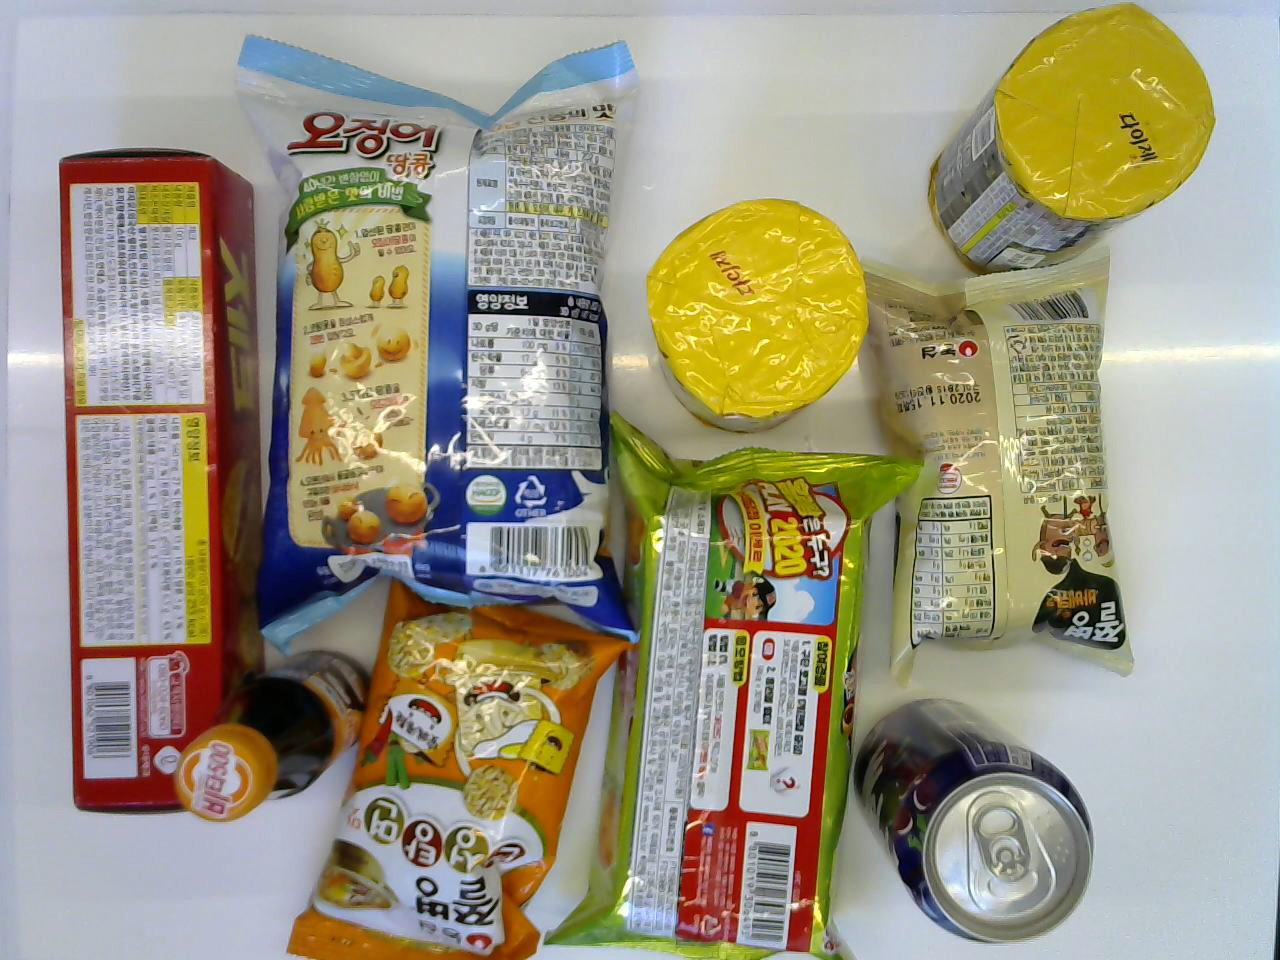diget_choco: (919, 0, 1219, 279)
diget_ori: (640, 193, 869, 436)
homerunball: (540, 403, 929, 959)
jjolbyung_noodle: (281, 571, 623, 954)
jjolbyung_ori: (855, 254, 1141, 685)
squid_peanut: (231, 27, 647, 641)
vita500: (174, 645, 374, 825)
welchs: (855, 695, 1095, 945)
zec: (54, 144, 265, 817)
